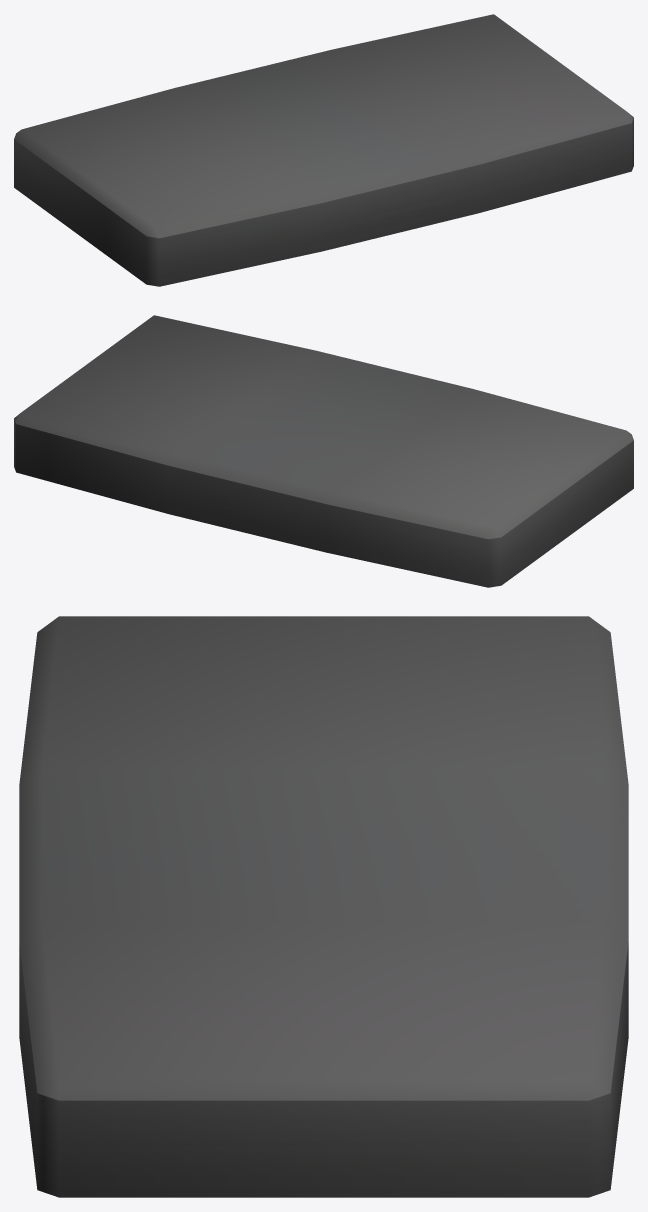
File: Grave_3.obj
3 renders of one model, top to bottom at view 1: azimuth 30°, elevation 25°; view 2: azimuth 150°, elevation 25°; view 3: azimuth 270°, elevation 25°, orthographic. The views are drawn at different scales.
Visible parts, largest first — view 1: Grave_3; view 2: Grave_3; view 3: Grave_3.
Boxes of the visible parts, bbox=[...] form: Grave_3: bbox=[14, 14, 633, 286]; Grave_3: bbox=[14, 315, 633, 587]; Grave_3: bbox=[19, 616, 628, 1197].
Size of the model in its own units: 1.69 by 0.1866 by 0.9144.
